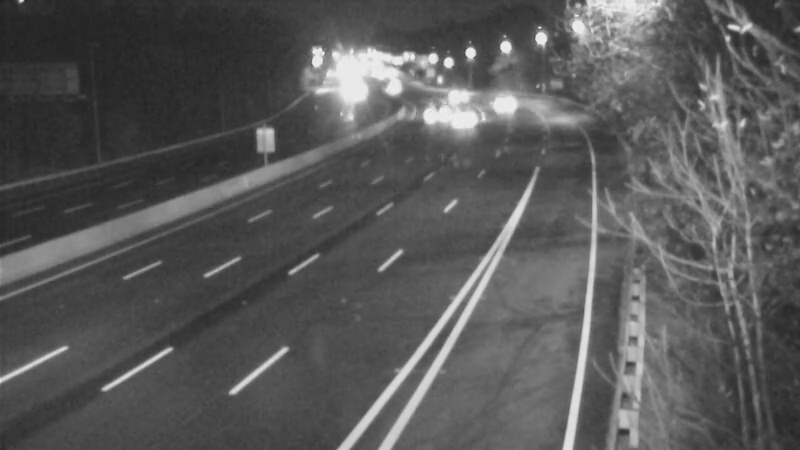vehicle: (436, 91, 486, 141), (406, 85, 456, 135), (478, 75, 528, 125), (434, 67, 484, 117)
